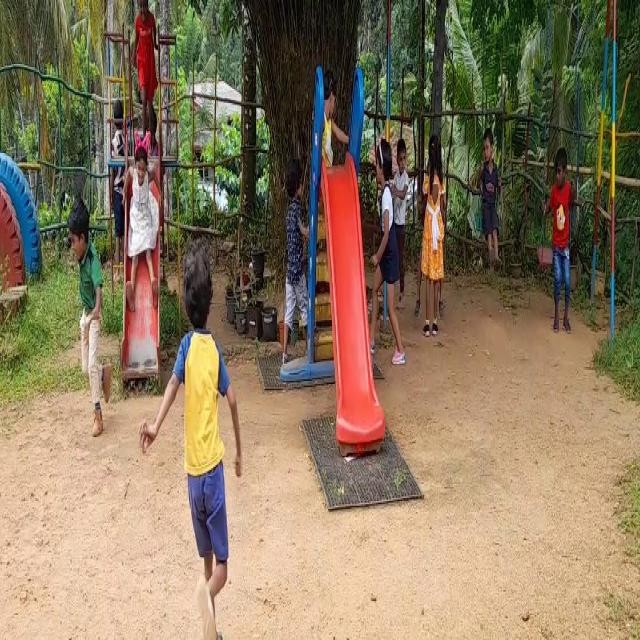child: (146, 240, 248, 640), (62, 189, 108, 451), (360, 136, 401, 374), (540, 139, 577, 351), (275, 148, 310, 355), (418, 136, 447, 342), (468, 121, 501, 280)
